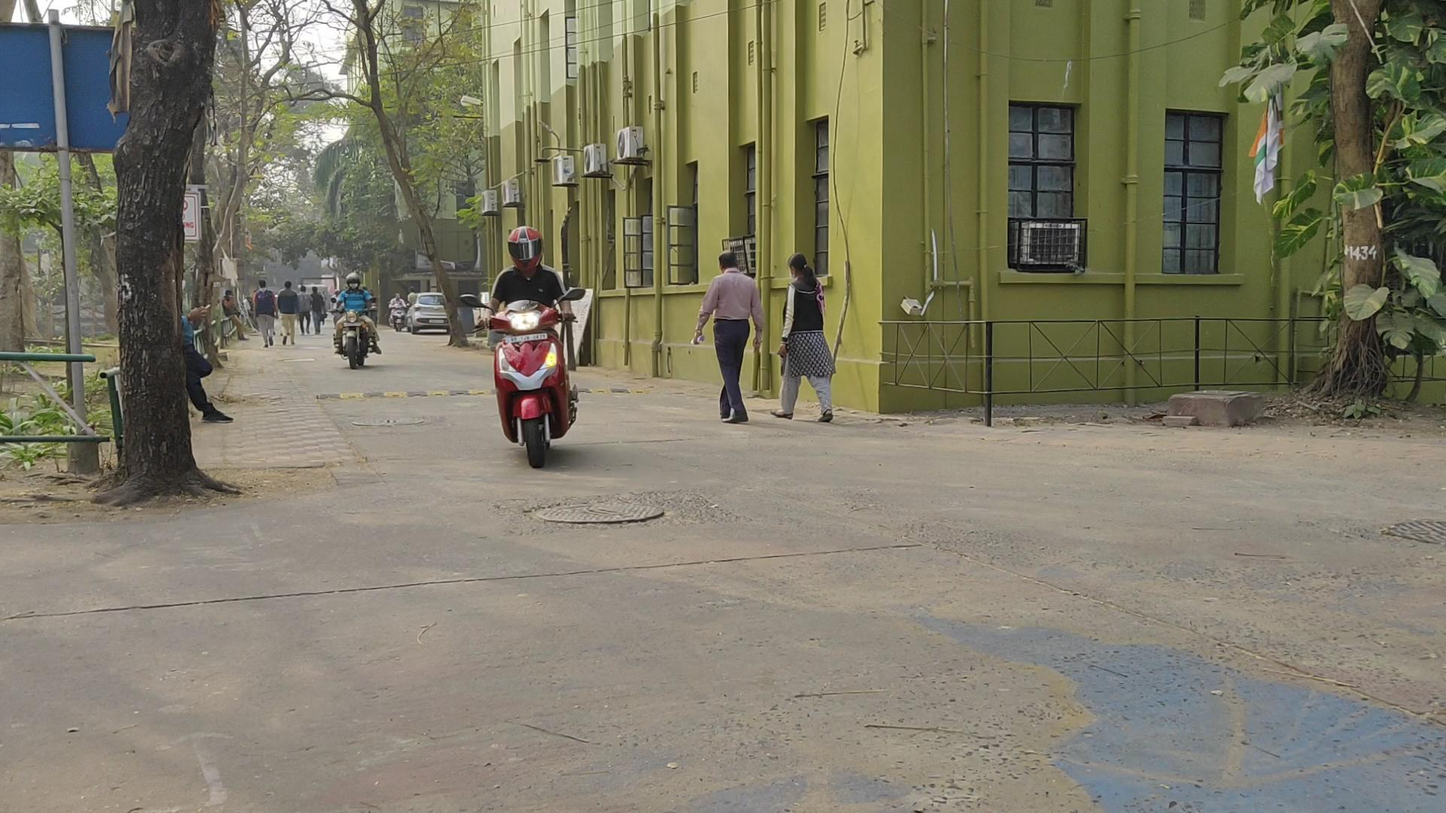bike: (487, 227, 580, 471), (328, 272, 383, 370), (387, 292, 410, 333)
car: (410, 293, 450, 334)
